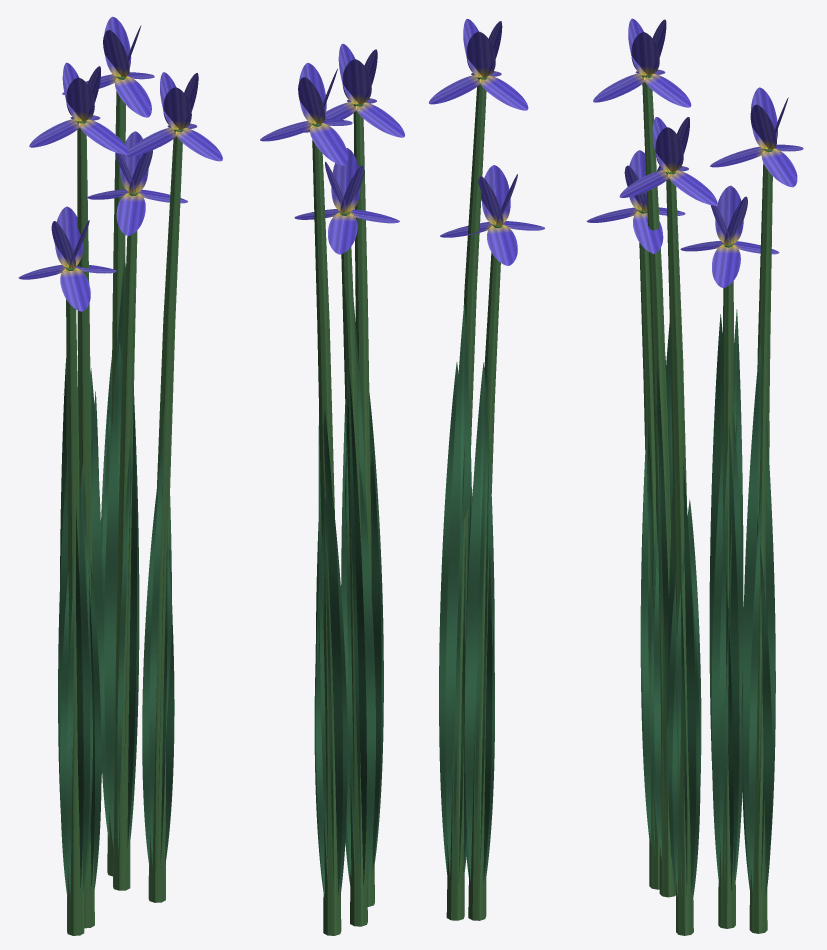
Rendered from swamp_iris_v01.fbx.
3 renders of one model, left to right at view 1: azimuth 30°, elevation 25°; view 2: azimuth 150°, elevation 25°; view 3: azimuth 270°, elevation 25°, orthographic. The views are drawn at different scales.
Parts seen in each view (by area): view 1: swamp_iris_v01; view 2: swamp_iris_v01; view 3: swamp_iris_v01.
Part boxes in pixels (x1,y1,x2,y2): swamp_iris_v01: (18,16,222,935); swamp_iris_v01: (260,19,544,935); swamp_iris_v01: (586,18,803,935).
Size of the model in its own units: 20.36 by 20.05 by 82.75.
Materials: 3 (3 with a texture image).
